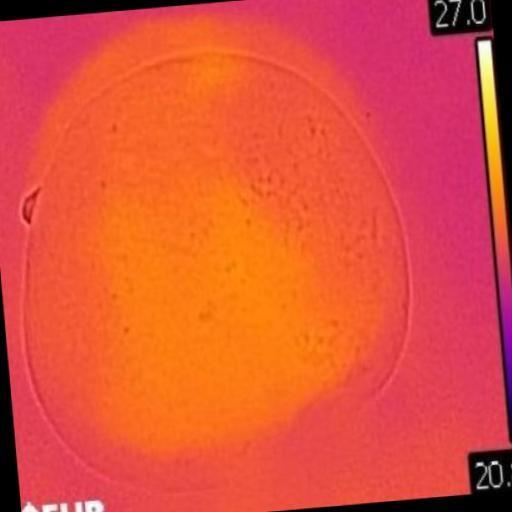alphanso: (26, 47, 408, 486), (252, 150, 254, 150)
